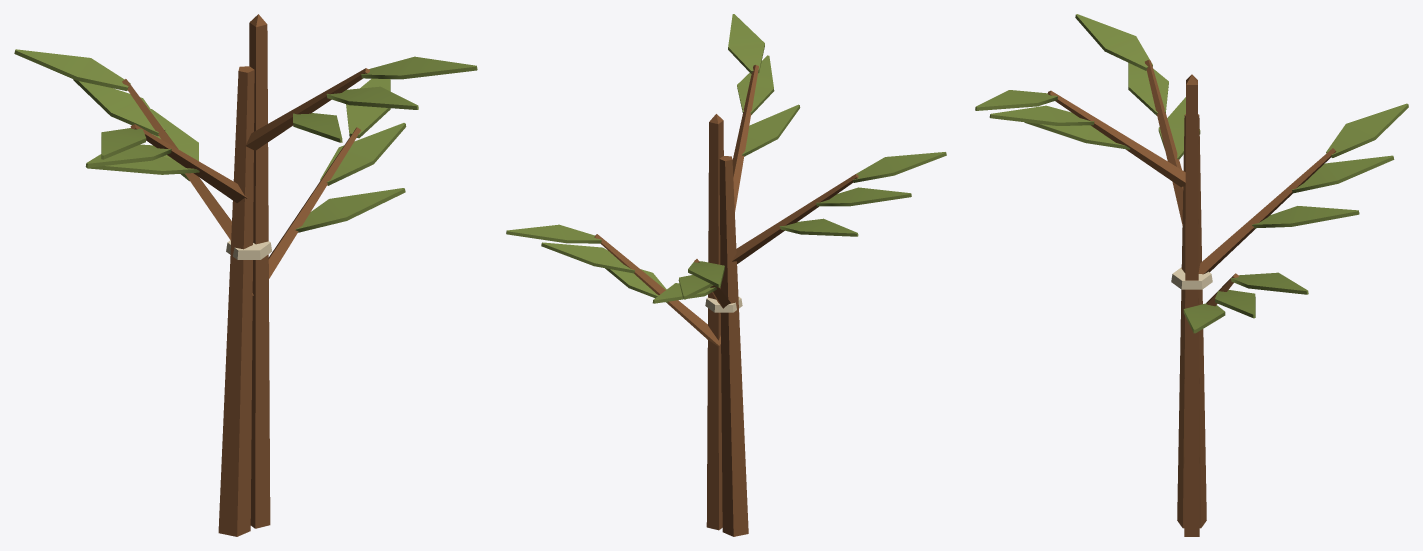
The model's file is crop_apple_tree_sprout.glb.
3 renders of one model, left to right at view 1: azimuth 30°, elevation 25°; view 2: azimuth 150°, elevation 25°; view 3: azimuth 270°, elevation 25°, orthographic. The views are drawn at different scales.
Parts seen in each view (by area): view 1: apple_sapling_b_0, apple_sapling_l_0_0, apple_sapling_tie; view 2: apple_sapling_b_0, apple_sapling_l_0_0; view 3: apple_sapling_b_0, apple_sapling_l_0_0, apple_sapling_tie.
Part boxes in pixels (x1,y1,x2,y2): apple_sapling_b_0: [122, 14, 369, 536]; apple_sapling_l_0_0: [14, 49, 477, 232]; apple_sapling_tie: [226, 240, 271, 259]; apple_sapling_b_0: [594, 65, 858, 536]; apple_sapling_l_0_0: [506, 14, 946, 303]; apple_sapling_b_0: [1047, 60, 1336, 536]; apple_sapling_l_0_0: [975, 14, 1408, 333]; apple_sapling_tie: [1171, 267, 1212, 289].
Bounding box in the file's own units: 0.6672 × 0.7979 × 0.6672.
